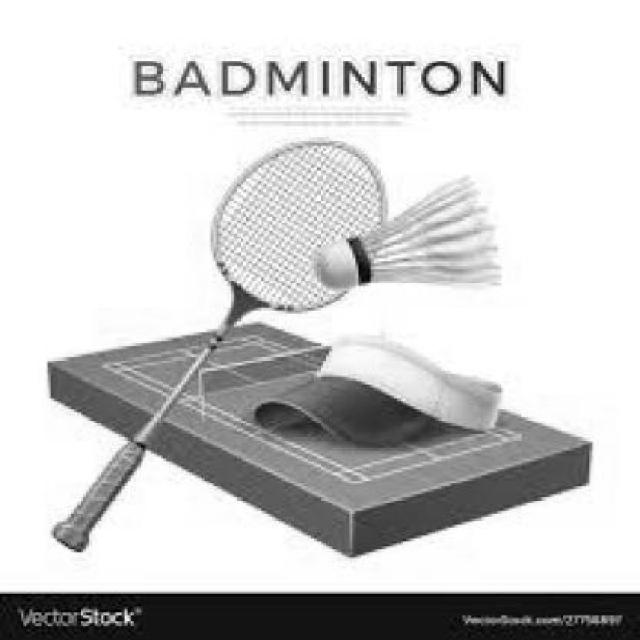Shuttlecock: (311, 177, 506, 287)
